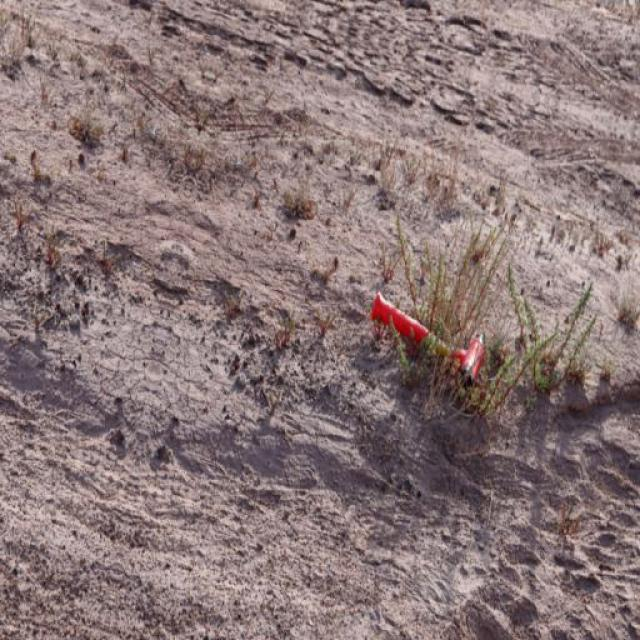mallet: (370, 290, 489, 386)
